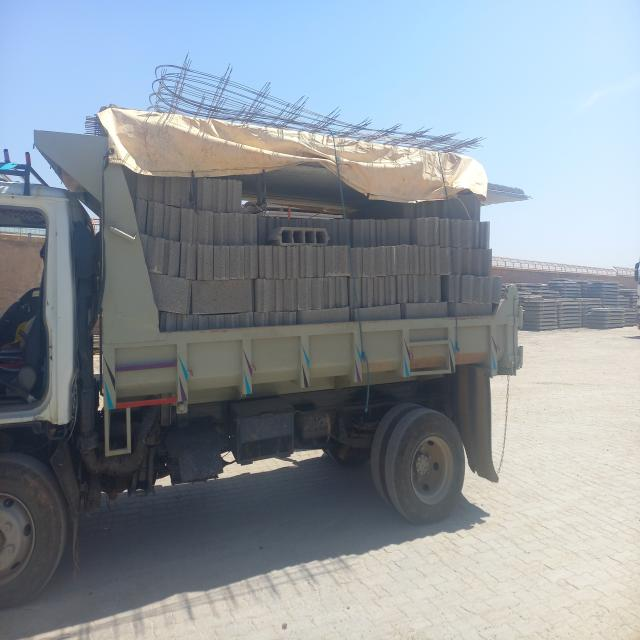bricks: (129, 172, 502, 330)
